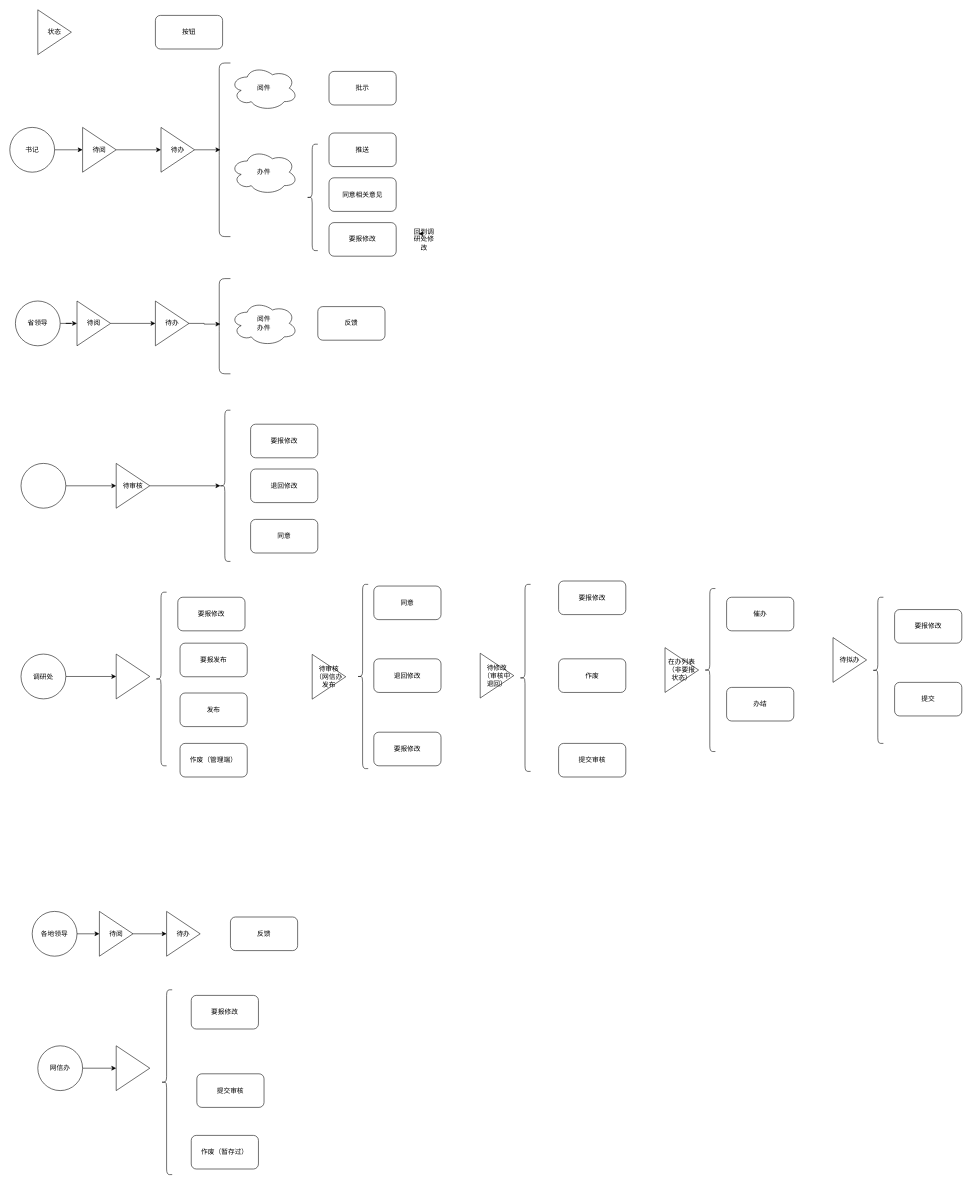
The diagram is 972 pixels wide and 1184 high, and some of its shapes have lost their labels. The shapes that lost their labels are listed below. From the top down, each one's centre as x and y in pixels, then its label:
At (x=43, y=485): "办公厅+秘书长".
At (x=133, y=676): "暂存".
At (x=133, y=1068): "暂存、发布".
